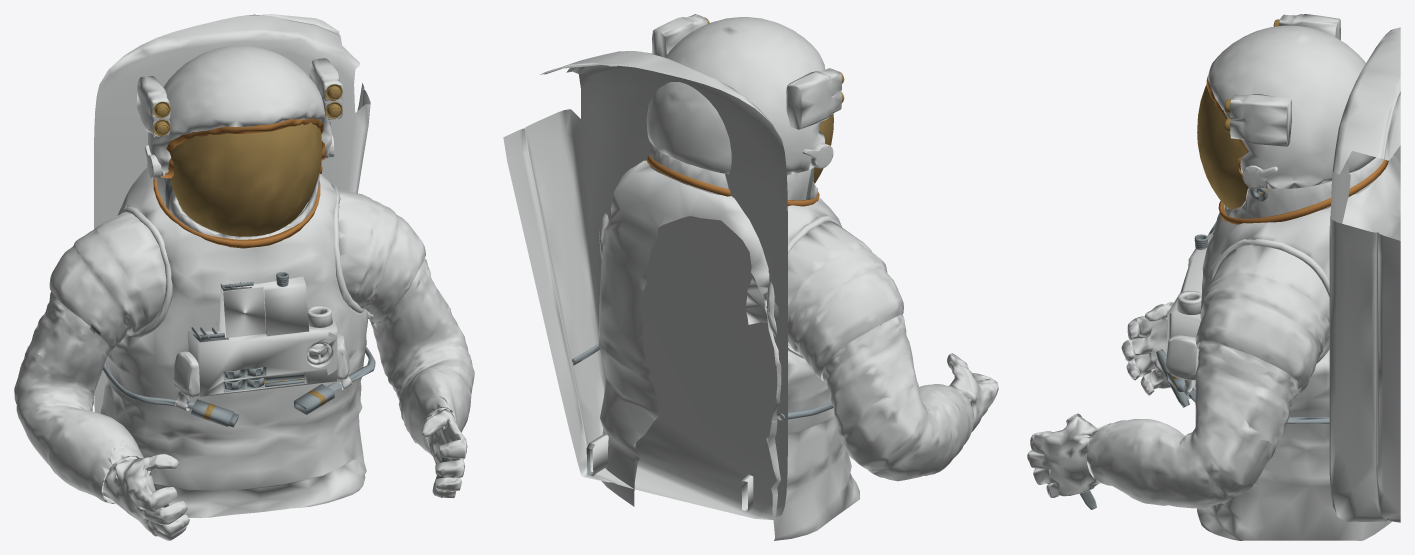
Rendered from cruz-del-sur-eva-suit.glb.
The picture shows the model from 3 angles, left to right: view 1: azimuth 30°, elevation 25°; view 2: azimuth 150°, elevation 25°; view 3: azimuth 270°, elevation 25°; orthographic projection. The views are drawn at different scales.
Parts seen in each view (by area): view 1: EVA jacket and closed helmet; view 2: EVA jacket and closed helmet; view 3: EVA jacket and closed helmet.
Boxes of the visible parts, bbox=[...] form: EVA jacket and closed helmet: bbox=[14, 14, 474, 540]; EVA jacket and closed helmet: bbox=[503, 14, 998, 540]; EVA jacket and closed helmet: bbox=[1027, 14, 1400, 540].
Bounding box in the file's own units: 0.8199 × 0.8568 × 0.6384.
